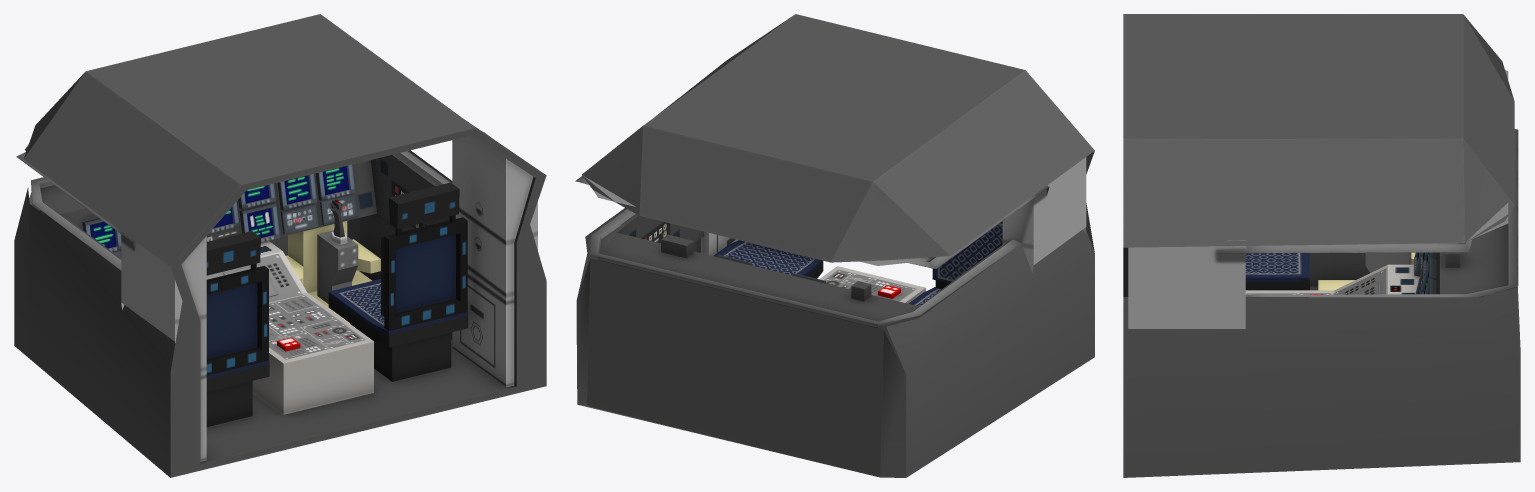
Rendered from iMadeThis.obj.
3 views of the same model, side by side, from view 1: azimuth 30°, elevation 25°; view 2: azimuth 150°, elevation 25°; view 3: azimuth 270°, elevation 25° (orthographic). The views are drawn at different scales.
Visible parts, largest first — view 1: CockpitControlCenter; view 2: CockpitControlCenter; view 3: CockpitControlCenter.
Part boxes in pixels (<box>): CockpitControlCenter: <box>14,14,546,477</box>; CockpitControlCenter: <box>575,14,1094,477</box>; CockpitControlCenter: <box>1123,14,1520,477</box>.
Bounding box in the file's own units: 11.93 × 8.35 × 9.98.
Materials: 1 (1 with a texture image).
